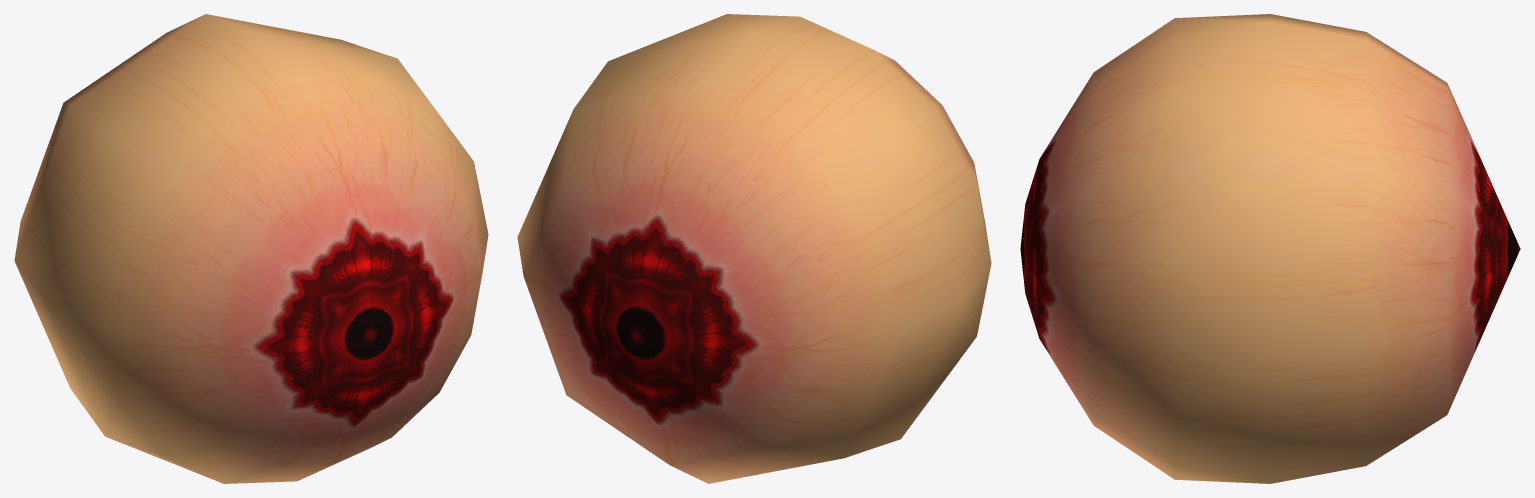
Rendered from EyeSmall.gltf.
The picture shows the model from 3 angles, left to right: view 1: azimuth 30°, elevation 25°; view 2: azimuth 150°, elevation 25°; view 3: azimuth 270°, elevation 25°; orthographic projection. The views are drawn at different scales.
Visible parts, largest first — view 1: EyeSmallMesh; view 2: EyeSmallMesh; view 3: EyeSmallMesh.
Boxes of the visible parts, box(x1,y1,x2,y2) form: EyeSmallMesh: box(14, 14, 488, 483); EyeSmallMesh: box(517, 14, 991, 483); EyeSmallMesh: box(1020, 14, 1520, 483).
Size of the model in its own units: 2.33 by 2.33 by 2.33.
1 material, 1 textured.
